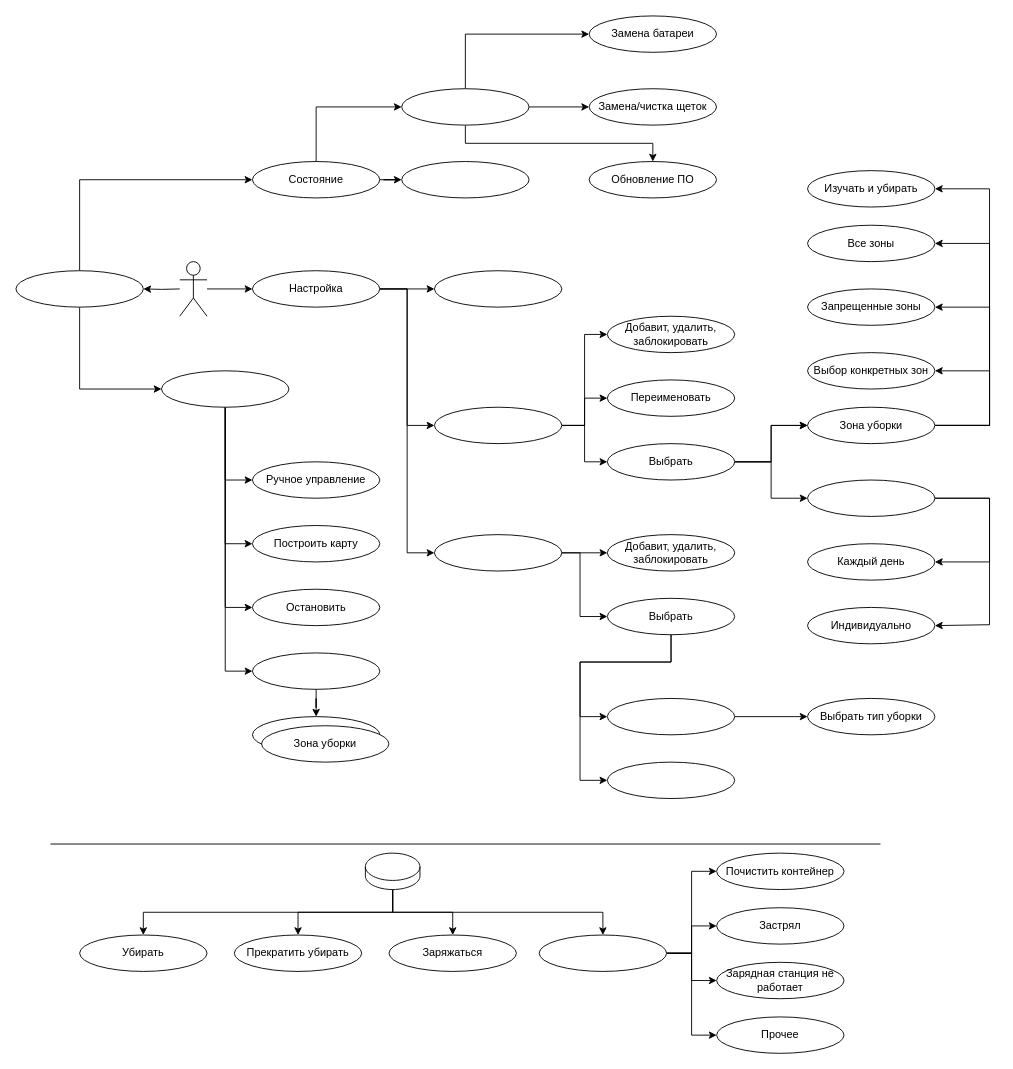
The diagram is 1013 pixels wide and 1069 high, and some of its shapes have lost their labels. Each missing label, with the centre of its shape:
Actor: point (193, 288)
Robo: point (392, 871)
Выбрать робота: point (79, 288)
Добавить "Красную линию": point (670, 780)
Запустить: point (316, 670)
Зоны уборки: point (498, 552)
Обслуживание: point (465, 106)
Профиль: point (498, 288)
Разметить подзоны: point (670, 716)
Расписание: point (871, 497)
Роботы: point (498, 425)
Самодиагностика: point (465, 179)
Сообщить об ошибке: point (602, 952)
Управление: point (225, 388)
